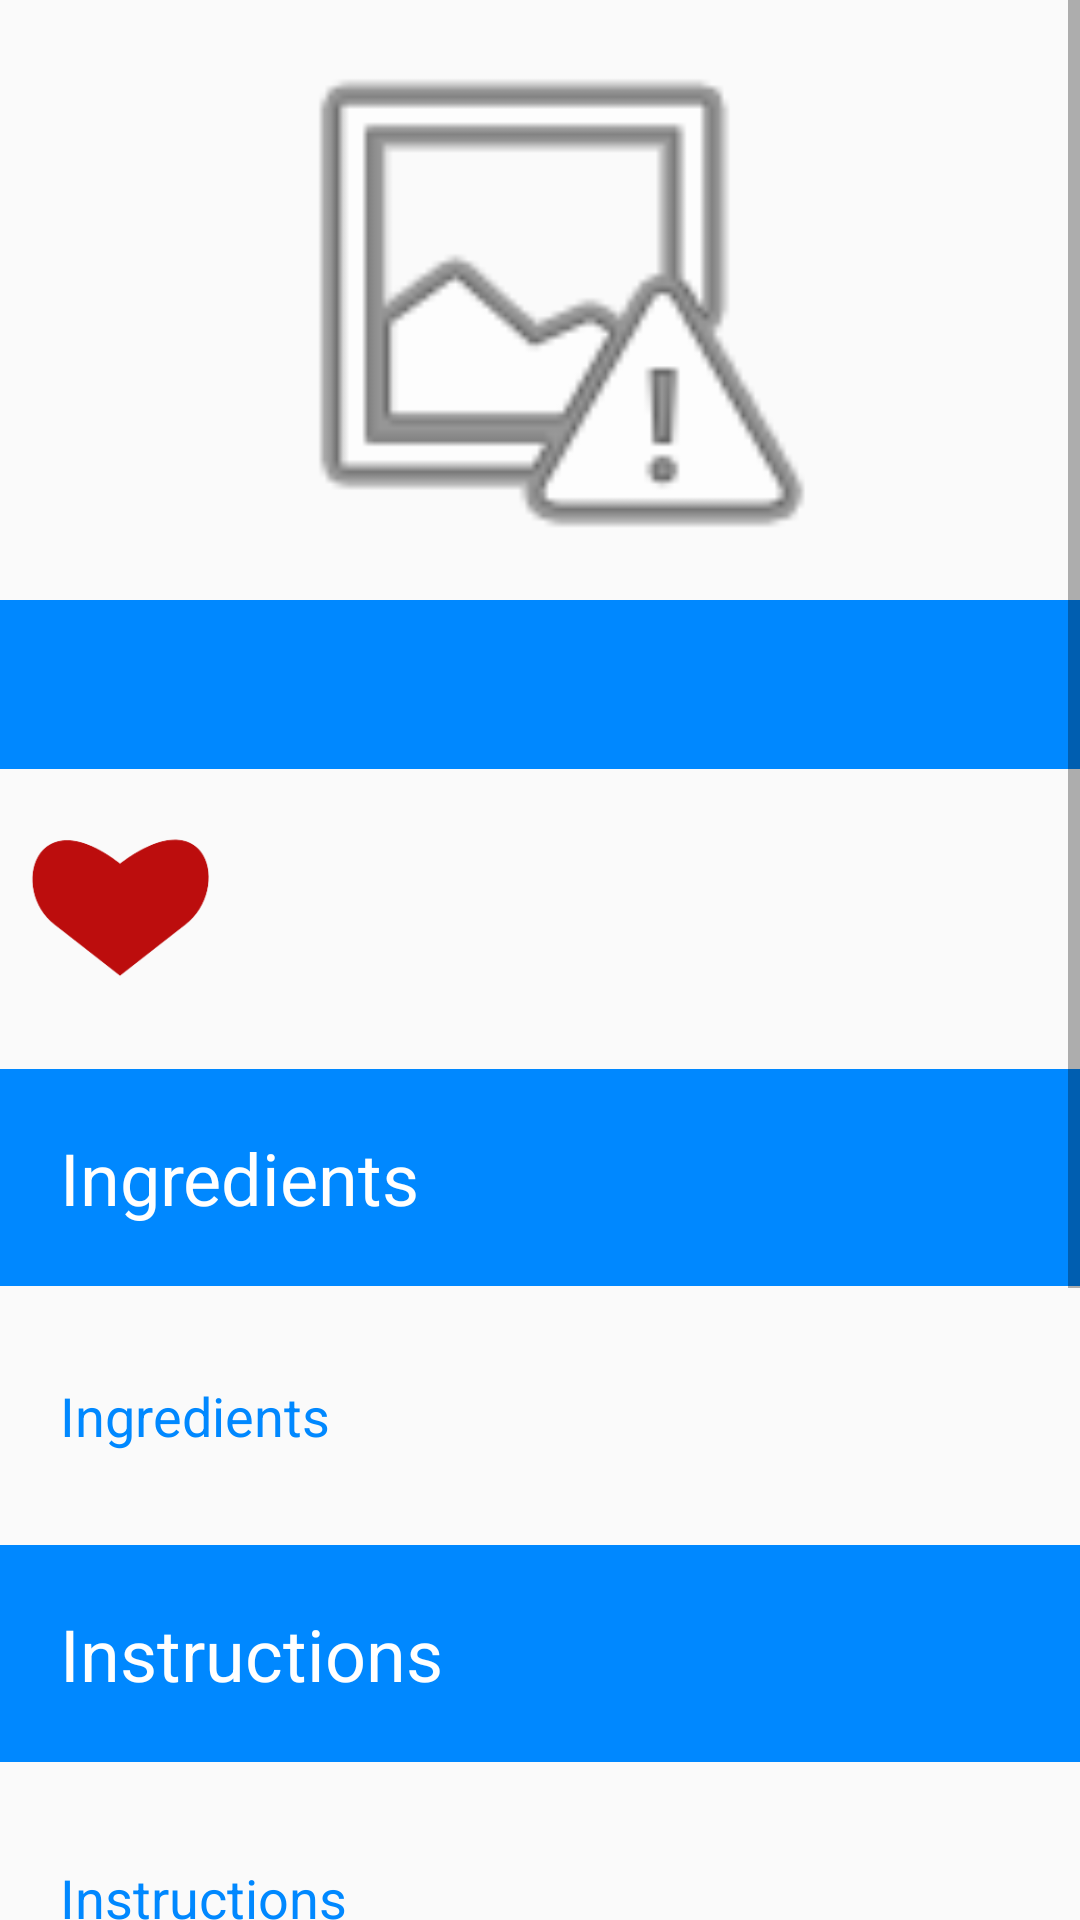

Named icons in this screenshot (1080px×1920px) and their bounding boxes, [x1, y1, x2, y2]:
heart: [32, 839, 209, 976]
